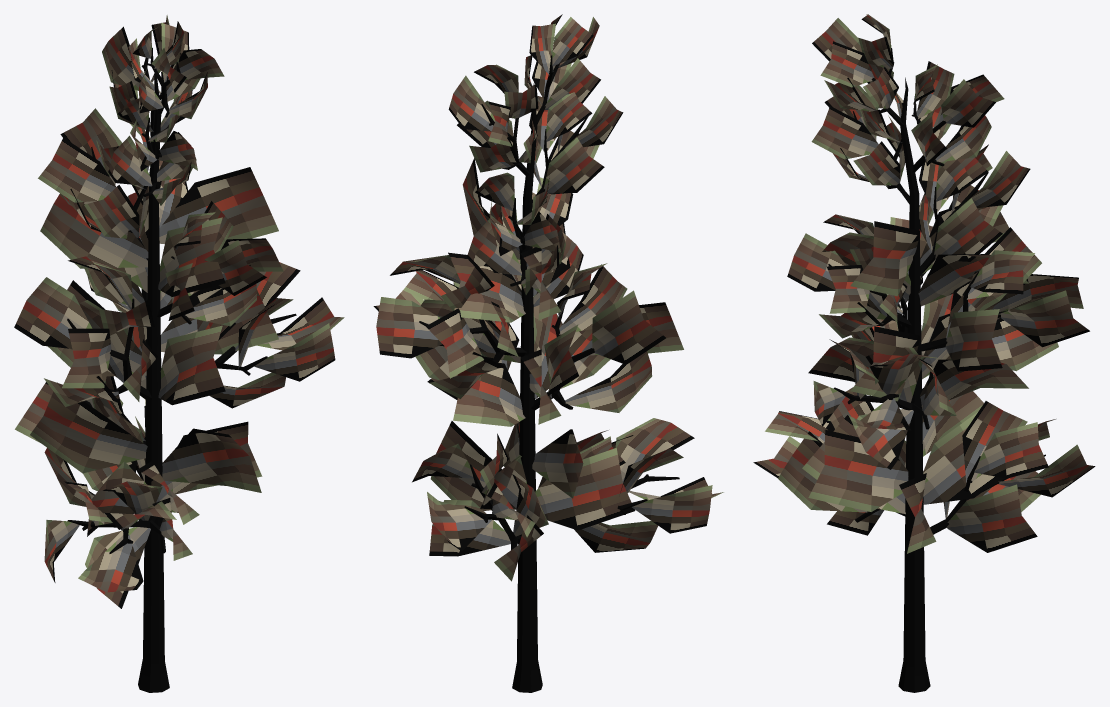
Rendered from SM_Tree_Birch_Dead_01_LOD_01.fbx.
The picture shows the model from 3 angles, left to right: view 1: azimuth 30°, elevation 25°; view 2: azimuth 150°, elevation 25°; view 3: azimuth 270°, elevation 25°; orthographic projection. The views are drawn at different scales.
Parts seen in each view (by area): view 1: SM_Tree_Birch_Dead_01_LOD_01; view 2: SM_Tree_Birch_Dead_01_LOD_01; view 3: SM_Tree_Birch_Dead_01_LOD_01.
Boxes of the visible parts, x1,y1,x2,y2 form: SM_Tree_Birch_Dead_01_LOD_01: [14, 15, 344, 692]; SM_Tree_Birch_Dead_01_LOD_01: [373, 14, 723, 692]; SM_Tree_Birch_Dead_01_LOD_01: [753, 14, 1095, 692].
Size of the model in its own units: 216 by 449 by 210.
1 material, 1 textured.
